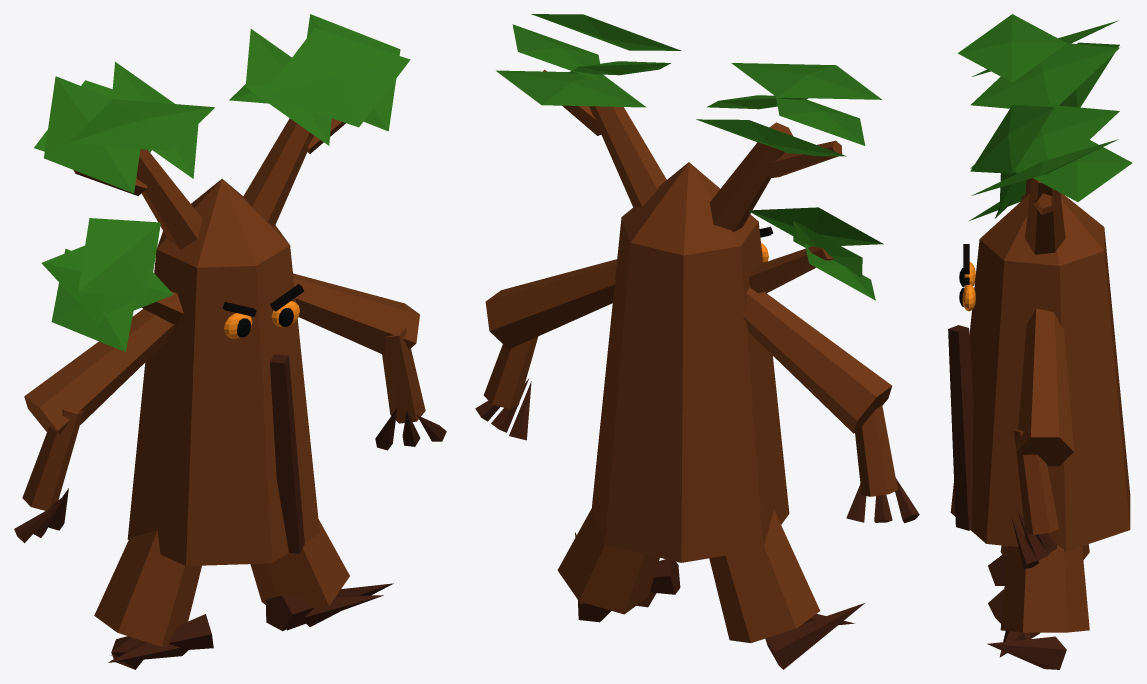
File: treant.glb
3 views of the same model, side by side, from view 1: azimuth 30°, elevation 25°; view 2: azimuth 150°, elevation 25°; view 3: azimuth 270°, elevation 25° (orthographic). The views are drawn at different scales.
Parts seen in each view (by area): view 1: trunk, leaf_1_1, leg_-1_0, arm_-1_0, head_top, arm_1_0, leaf_-1_2, side_leaf_2, leaf_-1_1, leg_1_0, bark_ridge, branch_1 (+13 smaller); view 2: trunk, arm_-1_0, leg_-1_0, head_top, arm_1_0, leg_1_0, branch_1, leaf_-1_1, leaf_1_3, branch_-1, arm_-1_1, side_leaf_2 (+13 smaller); view 3: trunk, arm_1_0, leg_1_0, leaf_-1_0, head_top, bark_ridge, leaf_-1_1, leaf_1_2, leaf_1_1, leaf_1_3, arm_1_1, branch_1 (+11 smaller).
Boxes of the visible parts, left/top/right/bottom form: trunk: left=127, top=245, right=319, bottom=565; leaf_1_1: left=263, top=28, right=410, bottom=127; leg_-1_0: left=94, top=530, right=201, bottom=646; arm_-1_0: left=24, top=309, right=174, bottom=435; head_top: left=156, top=178, right=289, bottom=267; arm_1_0: left=293, top=273, right=419, bottom=355; leaf_-1_2: left=44, top=76, right=140, bottom=193; side_leaf_2: left=78, top=218, right=160, bottom=296; leaf_-1_1: left=68, top=99, right=214, bottom=151; leg_1_0: left=250, top=519, right=349, bottom=609; bark_ridge: left=270, top=354, right=304, bottom=553; branch_1: left=243, top=118, right=314, bottom=226; trunk: left=592, top=217, right=789, bottom=562; arm_-1_0: left=742, top=287, right=891, bottom=433; leg_-1_0: left=709, top=510, right=820, bottom=642; head_top: left=621, top=162, right=758, bottom=255; arm_1_0: left=485, top=259, right=617, bottom=349; leg_1_0: left=557, top=508, right=659, bottom=614; branch_1: left=589, top=106, right=666, bottom=207; leaf_-1_1: left=731, top=63, right=882, bottom=99; leaf_1_3: left=496, top=70, right=646, bottom=107; branch_-1: left=709, top=122, right=792, bottom=232; arm_-1_1: left=855, top=405, right=897, bottom=496; side_leaf_2: left=748, top=207, right=883, bottom=245; trunk: left=950, top=228, right=1130, bottom=551; arm_1_0: left=1016, top=308, right=1073, bottom=466; leg_1_0: left=1000, top=535, right=1089, bottom=632; leaf_-1_0: left=970, top=43, right=1119, bottom=108; head_top: left=980, top=193, right=1104, bottom=265; bark_ridge: left=948, top=325, right=973, bottom=530; leaf_-1_1: left=958, top=14, right=1066, bottom=82; leaf_1_2: left=970, top=104, right=1119, bottom=175; leaf_1_1: left=970, top=105, right=1053, bottom=173; leaf_1_3: left=1033, top=140, right=1132, bottom=201; arm_1_1: left=1014, top=429, right=1058, bottom=534; branch_1: left=1025, top=178, right=1065, bottom=254.
Size of the model in its own units: 2.73 by 3.6 by 1.06.
